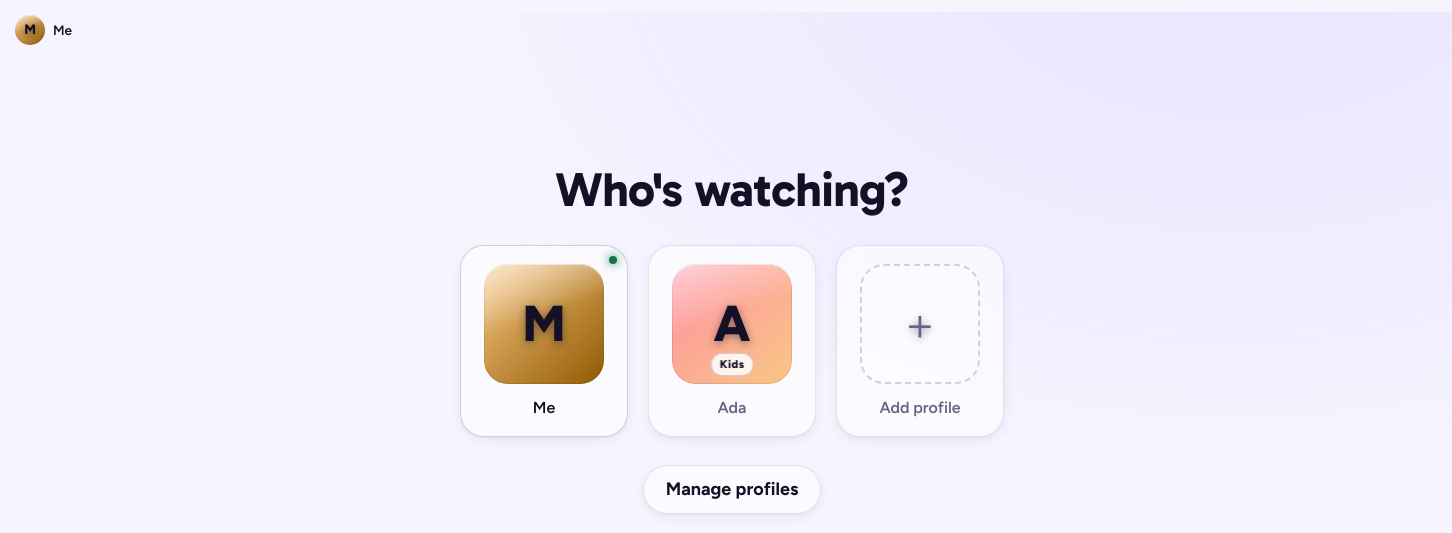
Test: ProfileMenu › shows the active profile and switches per-profile state
The image size is (1452, 533).
Click the button with aria-label "Profile: Me" at [47, 30], box left=12, top=12, right=82, bottom=48
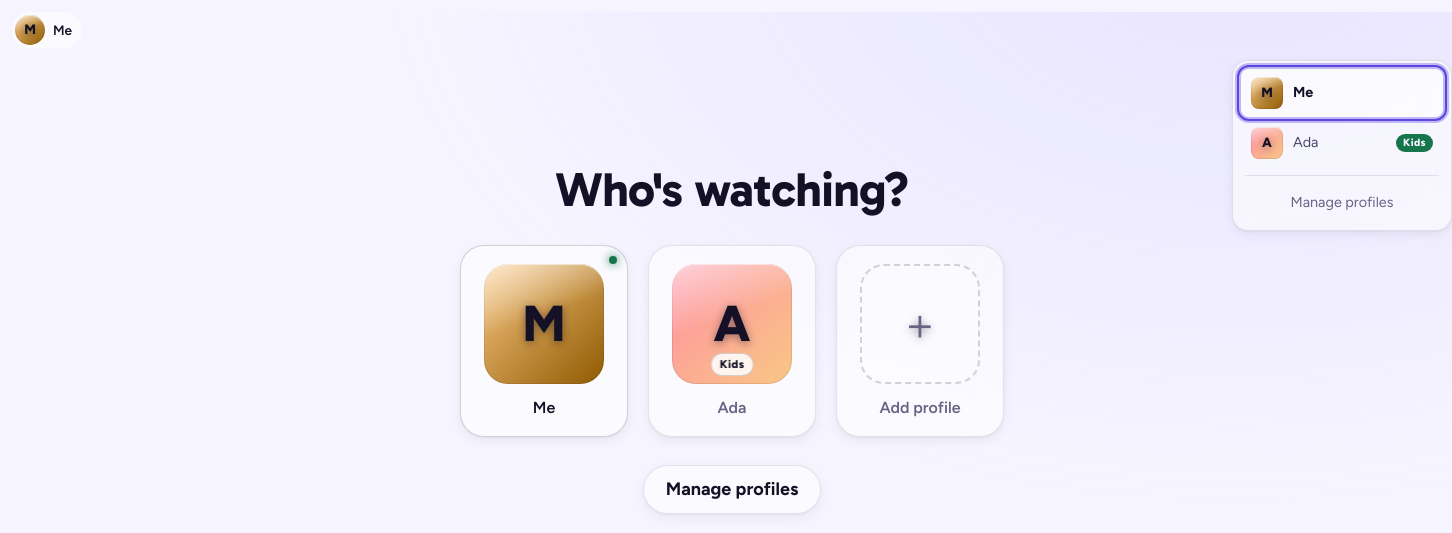
Click the menu item "A Ada Kids" at [1342, 143], box left=1241, top=119, right=1443, bottom=167
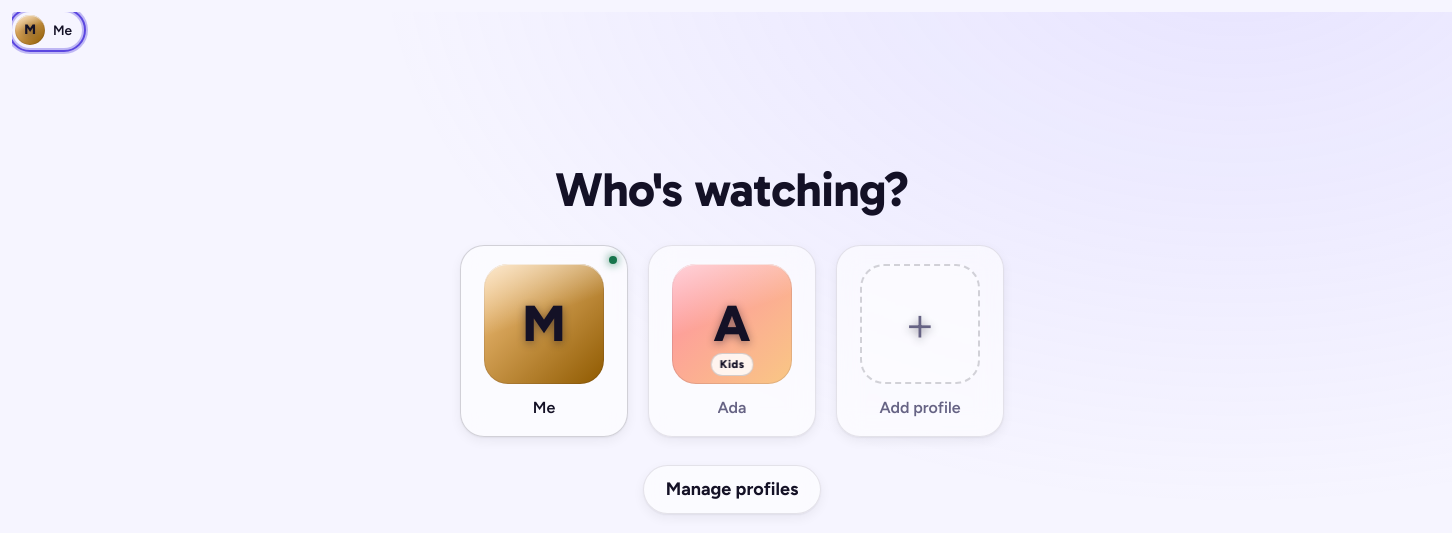
Expected: the button named "Profile: Ada (kids)" is shown, left=12, top=12, right=82, bottom=48
Expected: the menu is gone
